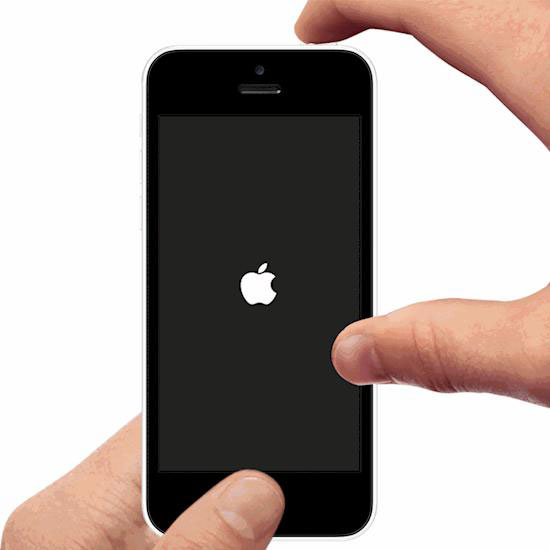Phone: (136, 39, 380, 540)
